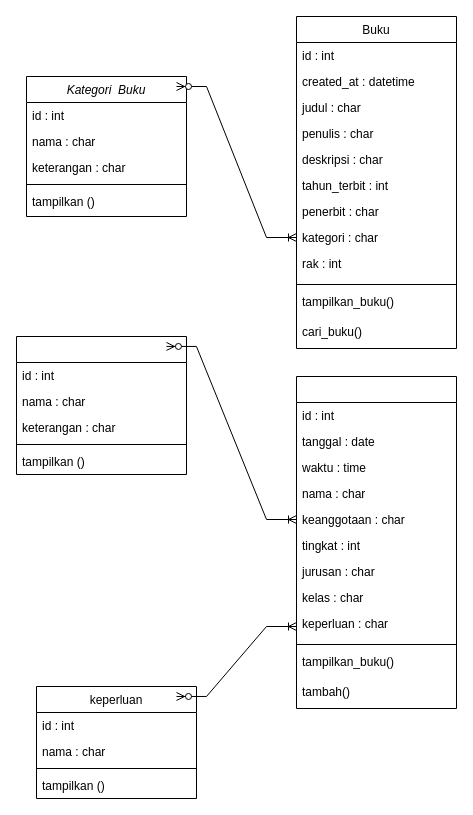
Image size: 473x815. Some labels were removed from this diagram. The box of each missing label's shape, as (x1, y1, x2, y2) in pixels:
keanggotaan: (16, 336, 186, 474)
pengunjung: (296, 376, 456, 708)
